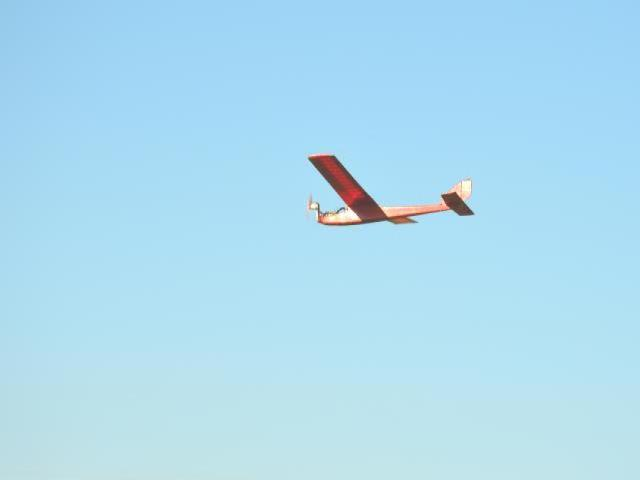iha: (304, 149, 484, 227)
